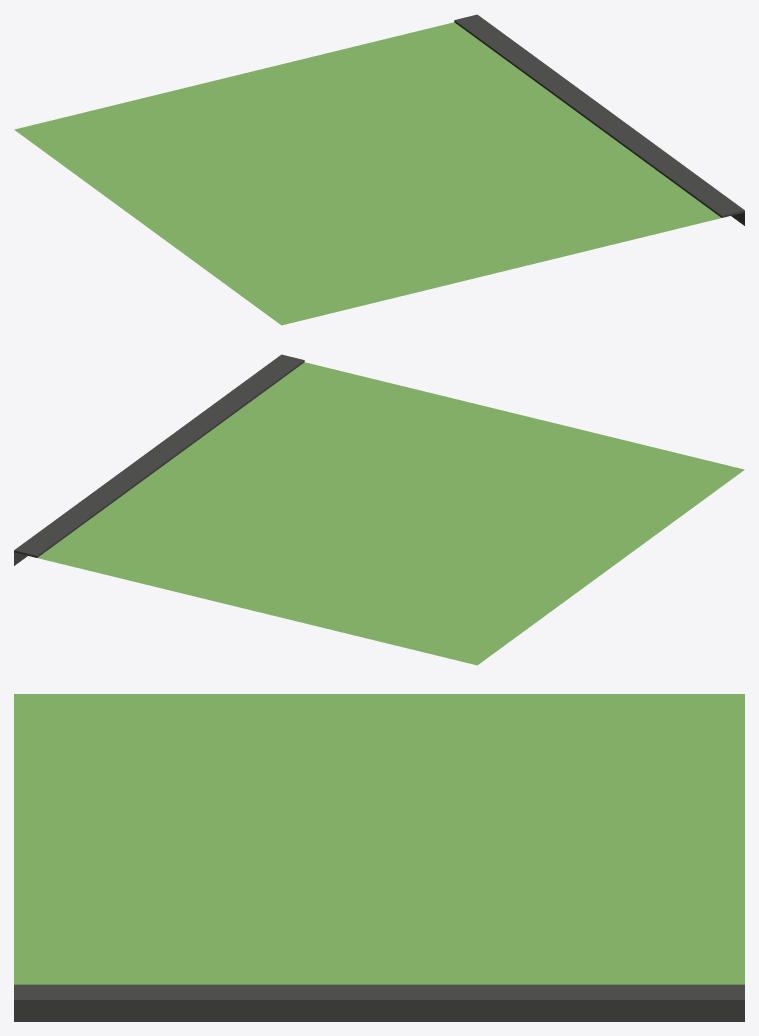
File: M_Grass350x350_3.fbx
3 renders of one model, top to bottom at view 1: azimuth 30°, elevation 25°; view 2: azimuth 150°, elevation 25°; view 3: azimuth 270°, elevation 25°, orthographic. The views are drawn at different scales.
Parts seen in each view (by area): view 1: M_Grass350x350_3; view 2: M_Grass350x350_3; view 3: M_Grass350x350_3.
Boxes of the visible parts, box(x1,y1,x2,y2) form: M_Grass350x350_3: box(14, 14, 744, 325); M_Grass350x350_3: box(14, 354, 744, 665); M_Grass350x350_3: box(14, 694, 744, 1021).
Size of the model in its own units: 350 by 350 by 11.5.
